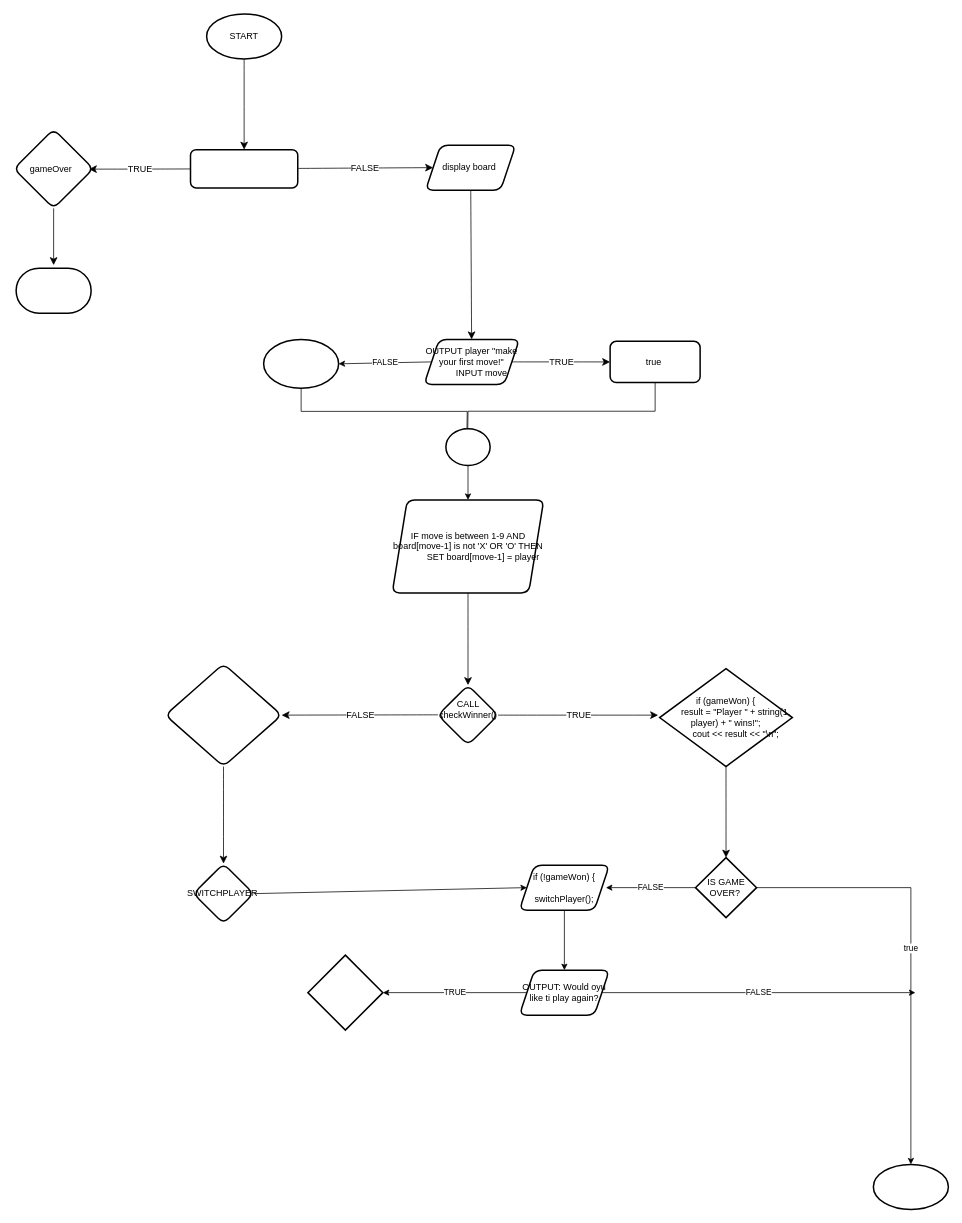
Image size: 962x1223. Some labels were removed from this diagram. The shapes that lost their labels are listed below. From the top down, each one's centre as x and y in pixels, then its label:
(243,168): initialize variables, SET board INITIALIZE player
(53,290): TERMINATE
(300,363): OUTPUT "INVALID MOVE. Please try again."
(223,715): else { result = "The game is Tied!"; cout << result << "\n"; }
(345,992): GAME RESET
(910,1186): END
